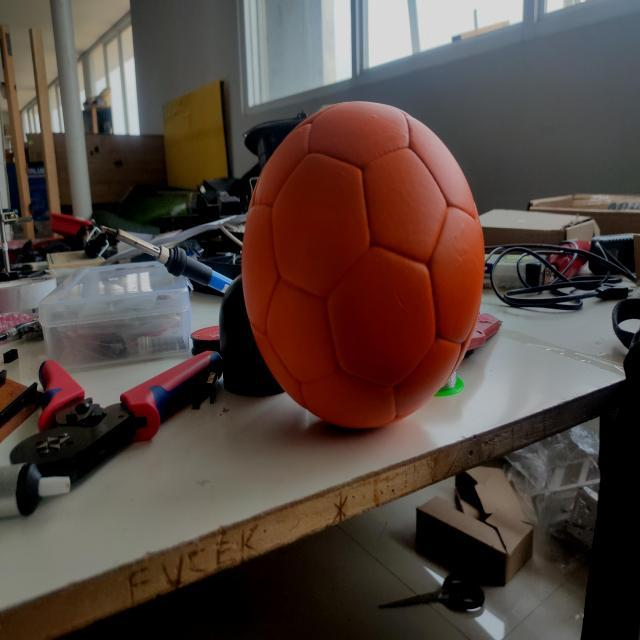bola: (230, 82, 476, 444)
